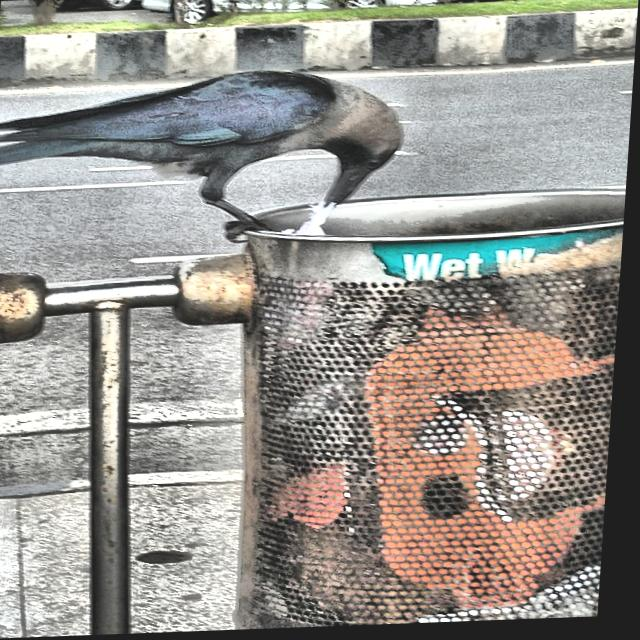crow: (0, 33, 427, 251)
